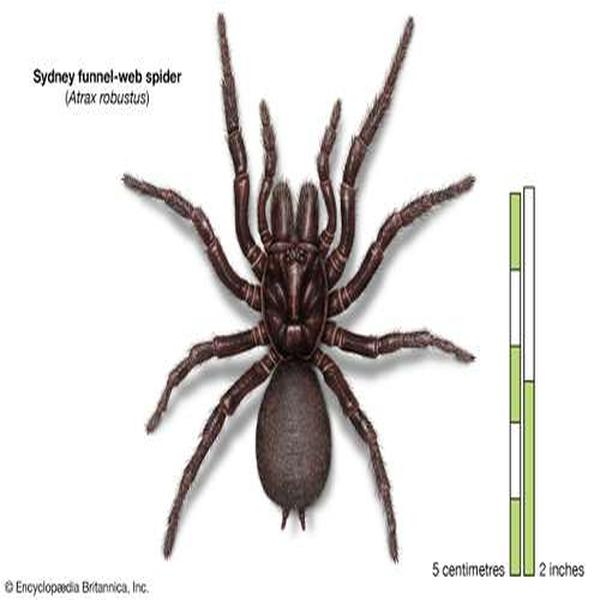Funnel Web Spider: (133, 18, 474, 558)
